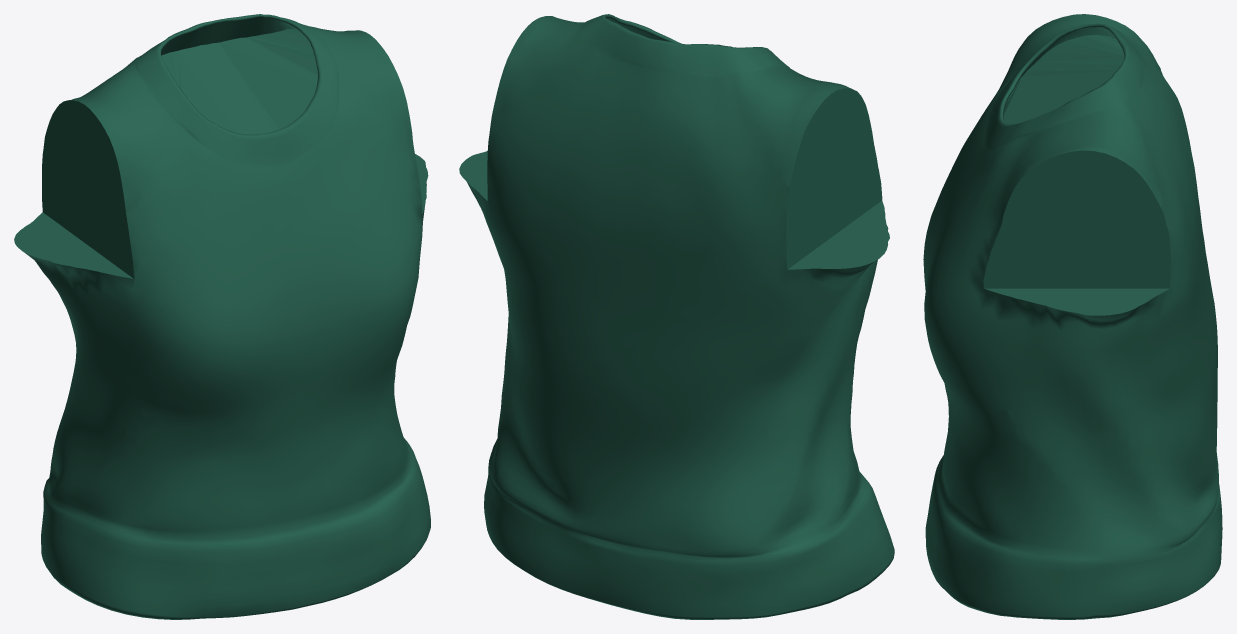
The model's file is torso.fbx.
3 views of the same model, side by side, from view 1: azimuth 30°, elevation 25°; view 2: azimuth 150°, elevation 25°; view 3: azimuth 270°, elevation 25° (orthographic). The views are drawn at different scales.
Visible parts, largest first — view 1: torso-1; view 2: torso-1; view 3: torso-1.
Boxes of the visible parts, x1,y1,x2,y2 form: torso-1: (14, 14, 430, 619); torso-1: (459, 14, 894, 619); torso-1: (923, 14, 1222, 619).
Bounding box in the file's own units: 0.467 × 0.2524 × 0.3796.
